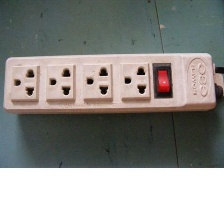three_eye_plug: (0, 49, 221, 118)
